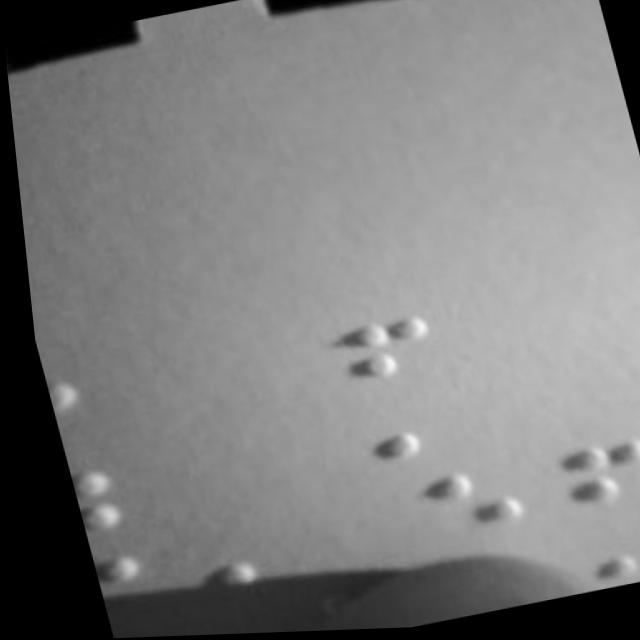braiile: (286, 310, 443, 409), (506, 435, 640, 534)
